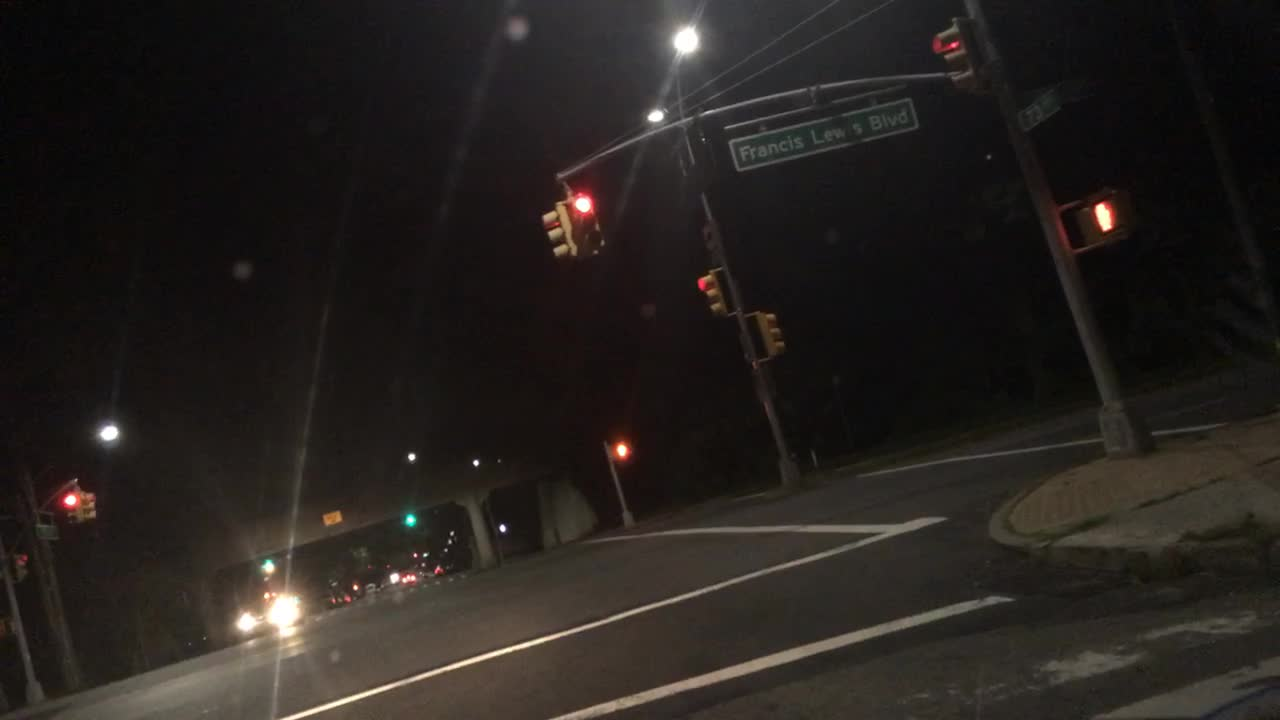car: (233, 584, 303, 638), (430, 557, 455, 579), (324, 589, 351, 607), (401, 570, 417, 584)
traffic light: (930, 18, 977, 91), (1086, 189, 1130, 236), (536, 201, 572, 255), (570, 191, 600, 248), (752, 309, 784, 356), (695, 272, 722, 312), (6, 547, 28, 577), (79, 494, 98, 521), (60, 491, 77, 521), (611, 435, 629, 462), (401, 509, 415, 533), (260, 552, 273, 570), (496, 516, 508, 533)
traffic sign: (725, 98, 916, 172), (1017, 72, 1090, 111), (1016, 84, 1061, 131), (33, 520, 62, 542), (320, 509, 341, 525)
